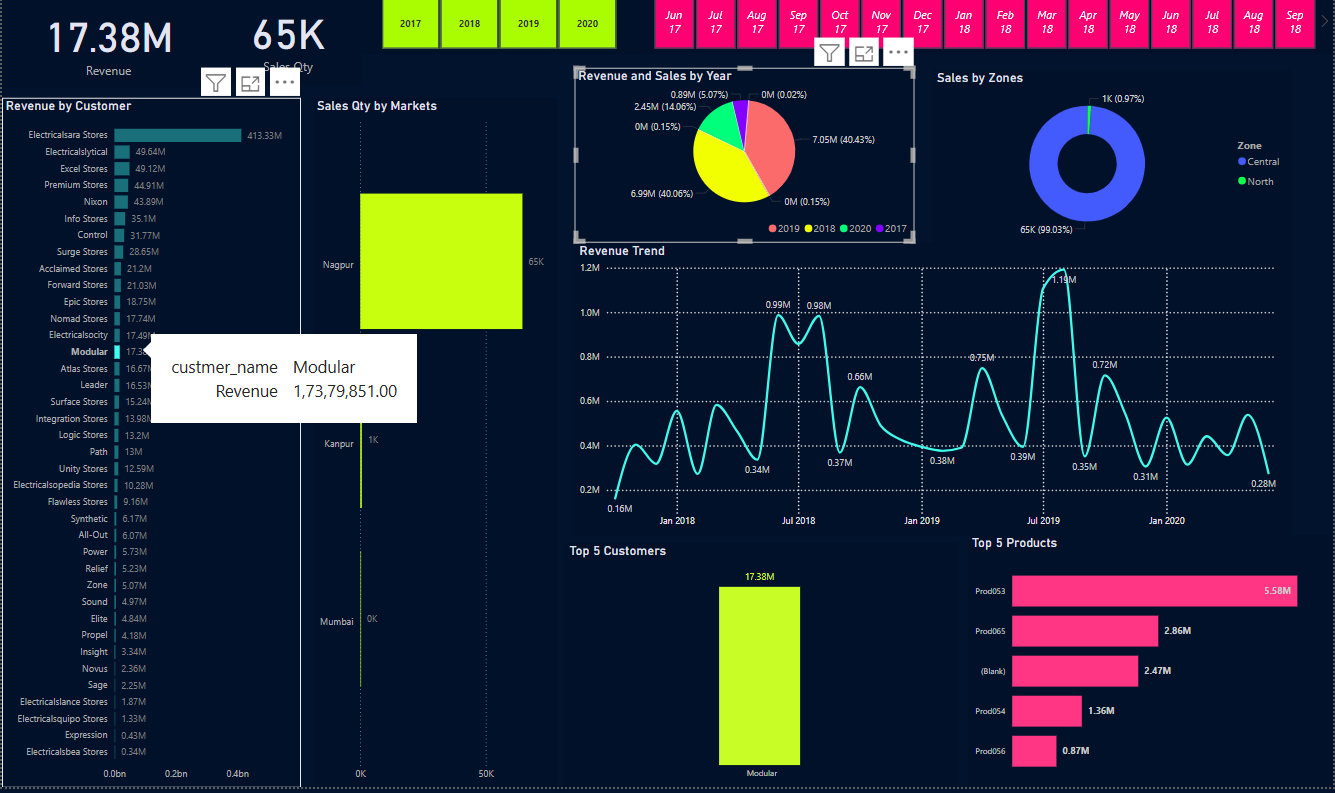

What the dashboard file says about the page in this screenshot:
{"tool":"powerbi","page":{"name":"Dashboard","canvas":[1750,1050],"ordinal":0},"visuals":[{"type":"card","fields":{"Values":["BaseMeasures.Revenue"]},"box":[1.6,4.8,277.5,125.8],"z":0},{"type":"card","fields":{"Values":["BaseMeasures.Sales Qty"]},"box":[279.1,0,193.6,127.5],"z":1000},{"type":"barChart","title":"Revenue by Customer","fields":{"Category":["sales customers.custmer_name"],"Y":["BaseMeasures.Revenue"]},"box":[0,143,392.8,907.3],"z":2000},{"type":"barChart","title":"Sales Qty by Markets","fields":{"Category":["sales markets.markets_name"],"Y":["BaseMeasures.Sales Qty"]},"box":[409.3,143,320.5,907.3],"z":3000},{"type":"donutChart","title":"Sales by Zones","fields":{"Y":["BaseMeasures.Sales Qty"],"Category":["sales markets.zone"]},"box":[1224.6,106.8,470.1,226.8],"z":4000},{"type":"slicer","fields":{"Values":["sales date.year"]},"box":[473.4,4.9,358.3,80.5],"z":5000},{"type":"slicer","title":"Months","fields":{"Values":["sales date.cy_date"]},"box":[831.7,0,918.8,85.5],"z":6000},{"type":"columnChart","title":"Top 5 Customers","fields":{"Category":["sales customers.custmer_name"],"Y":["BaseMeasures.Revenue"]},"box":[741.3,728.2,516.1,320.5],"z":7000},{"type":"pieChart","title":"Revenue and Sales by Year","fields":{"Category":["sales date.year"],"Y":["BaseMeasures.Revenue","BaseMeasures.Sales Qty"]},"box":[752.8,103.6,447.1,230.1],"z":8000},{"type":"barChart","title":"Top 5 Products","fields":{"Y":["BaseMeasures.Revenue"],"Category":["sales products.product_code"]},"box":[1270.6,718.3,480,332],"z":9000},{"type":"lineChart","title":"Revenue Trend","fields":{"Category":["sales date.cy_date"],"Y":["BaseMeasures.Revenue"]},"box":[754.5,333.7,940.2,384.6],"z":10000}]}

Visuals, with their boxes in screenshot pixels (x1, y1, x2, y2), scaled from the page's 1750x1050 canvas onto the 1335x793 screenshot:
card - BaseMeasures.Revenue: select_region(1, 4, 213, 99)
card - BaseMeasures.Sales Qty: select_region(213, 0, 361, 96)
"Revenue by Customer" barChart: select_region(0, 108, 300, 792)
"Sales Qty by Markets" barChart: select_region(312, 108, 557, 792)
"Sales by Zones" donutChart: select_region(934, 81, 1293, 252)
slicer - sales date.year: select_region(361, 4, 634, 64)
"Months" slicer: select_region(634, 0, 1334, 65)
"Top 5 Customers" columnChart: select_region(566, 550, 959, 792)
"Revenue and Sales by Year" pieChart: select_region(574, 78, 915, 252)
"Top 5 Products" barChart: select_region(969, 542, 1334, 792)
"Revenue Trend" lineChart: select_region(576, 252, 1293, 542)
